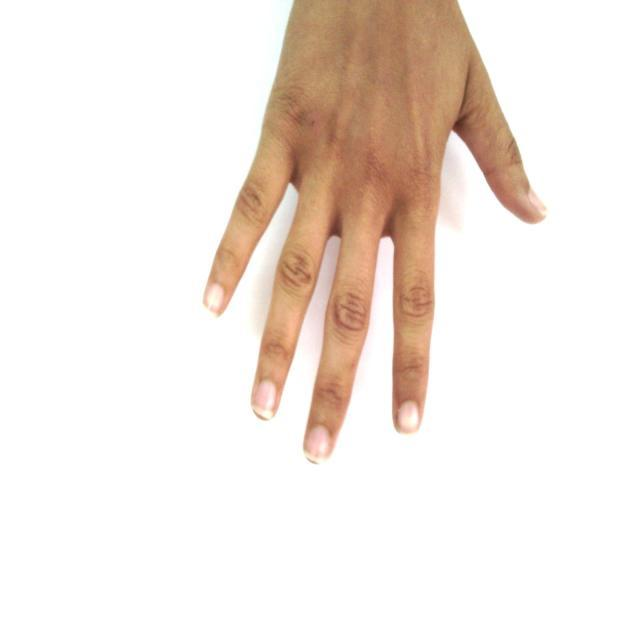Fingernail: (306, 426, 332, 465), (253, 381, 276, 419), (399, 400, 420, 433), (204, 285, 225, 316), (529, 189, 550, 215)
